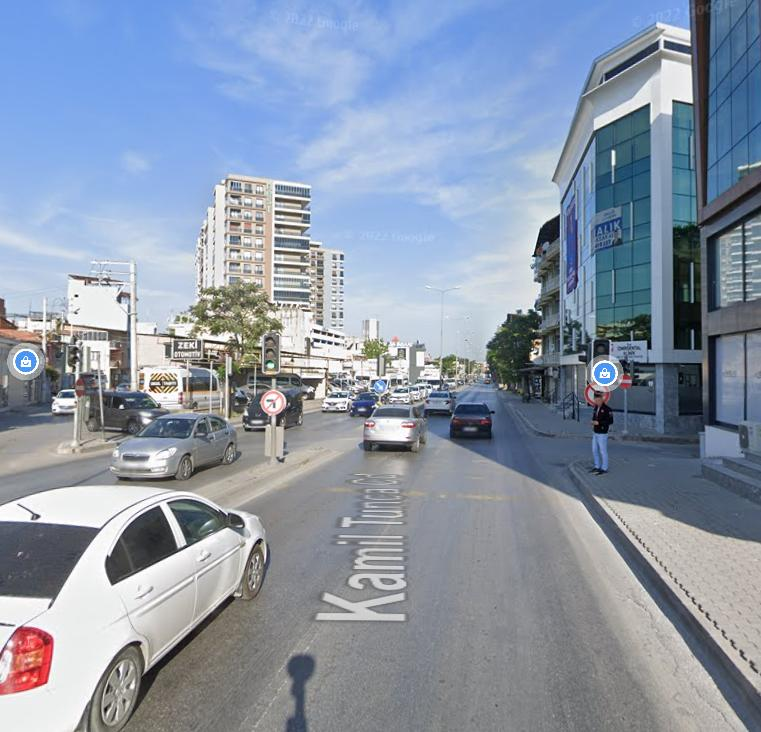greenlight: (263, 332, 279, 372)
